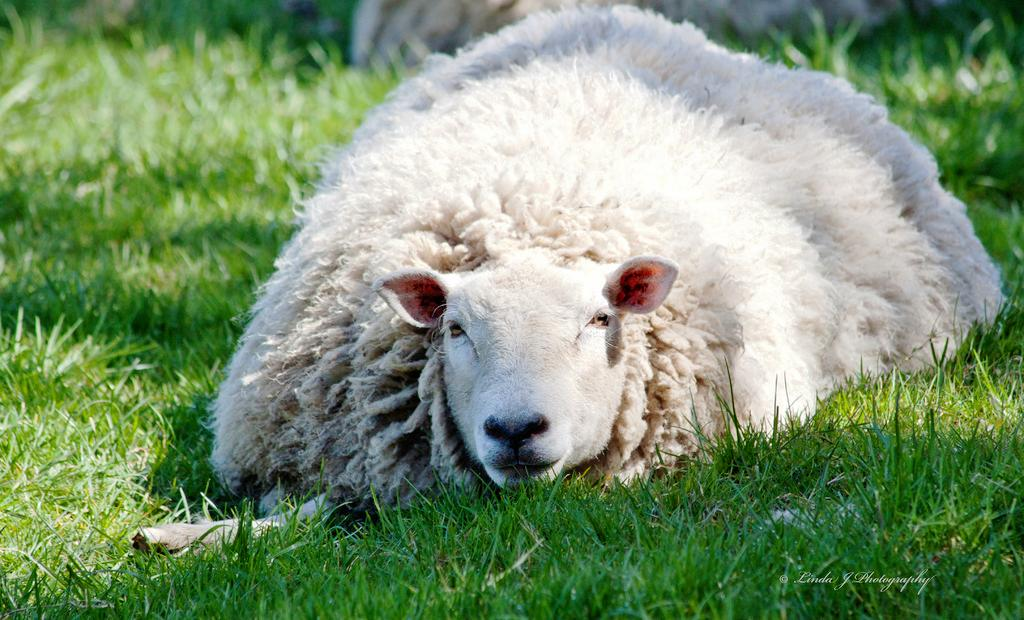Sheep: (130, 0, 1010, 559)
